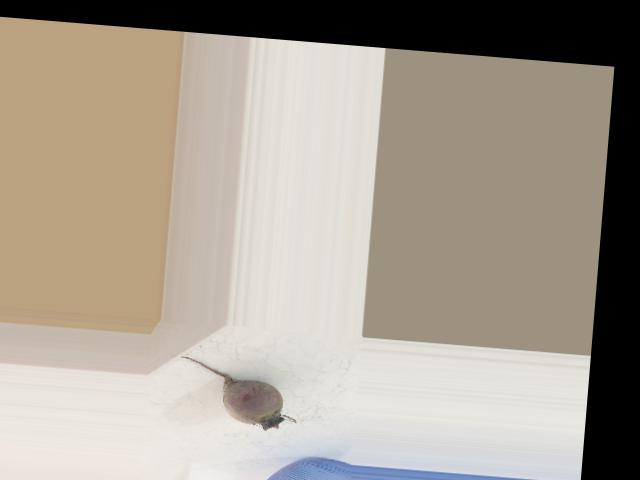beet: (175, 355, 300, 432)
